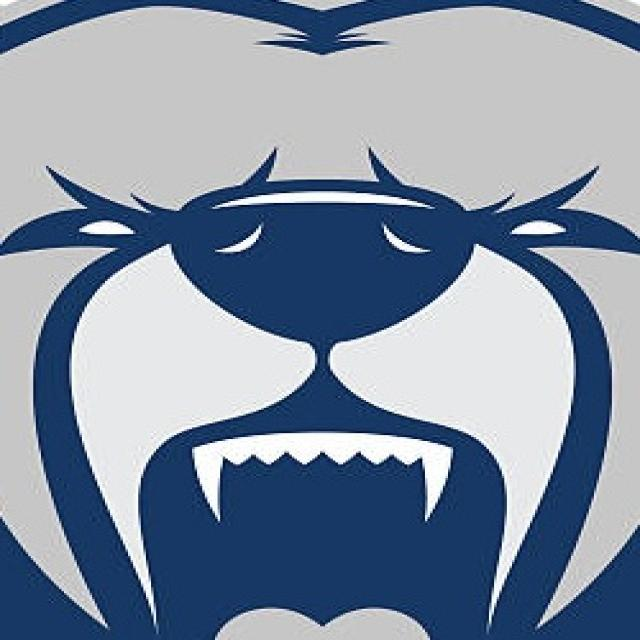Anxiety: (0, 3, 637, 638)
